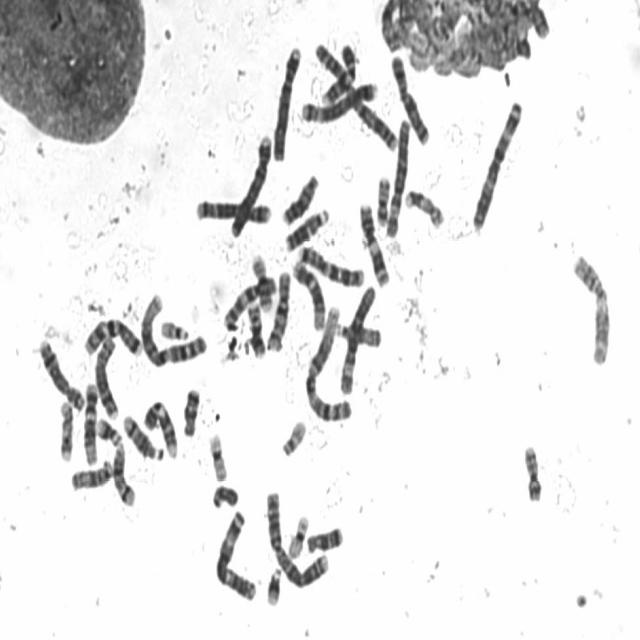A1: (302, 300, 354, 425), (137, 286, 209, 368)
A2: (311, 35, 400, 152), (263, 485, 331, 591)
A3: (468, 93, 526, 234), (211, 503, 258, 602)
B4: (226, 127, 274, 240), (270, 39, 304, 163)
B5: (298, 75, 379, 124), (191, 191, 274, 226)
C10: (220, 270, 278, 332), (264, 264, 294, 354)
C11: (568, 246, 612, 368), (355, 194, 391, 288)
C12: (289, 254, 327, 332), (80, 377, 99, 467)
C6: (336, 278, 378, 396), (382, 111, 412, 240)
C7: (294, 239, 366, 289), (80, 311, 144, 358)
C8: (35, 332, 86, 412), (92, 331, 120, 420)
C9: (318, 38, 358, 106), (140, 393, 180, 460)
D13: (279, 167, 321, 227), (282, 202, 331, 253)
D14: (120, 407, 166, 463), (110, 438, 138, 508)
D15: (68, 453, 114, 492), (333, 315, 384, 349)
E16: (248, 248, 275, 314), (244, 296, 267, 359)
E17: (402, 182, 446, 230), (55, 394, 75, 463)
E18: (303, 520, 345, 555), (180, 381, 202, 438)
F19: (284, 508, 311, 560), (205, 426, 229, 483)
F20: (520, 438, 544, 504), (373, 169, 393, 227)
G21: (93, 412, 124, 448), (263, 560, 284, 608)
G22: (278, 413, 308, 458), (157, 314, 191, 342)
X: (388, 48, 433, 146)
Y: (209, 478, 241, 510)
